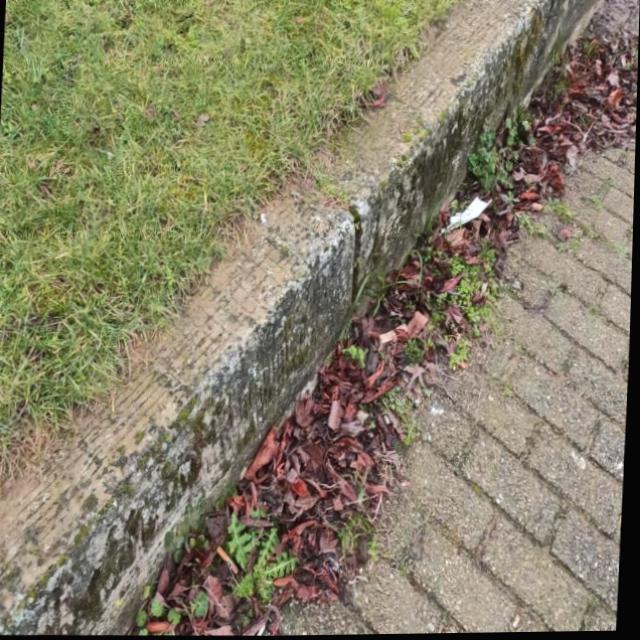Paper: (443, 191, 495, 238)
